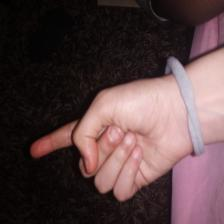one: (28, 78, 166, 202)
